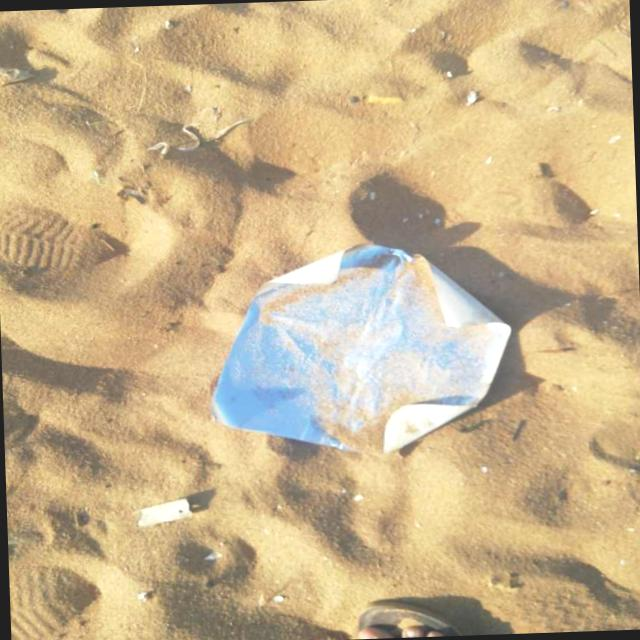giay: (212, 245, 511, 452)
